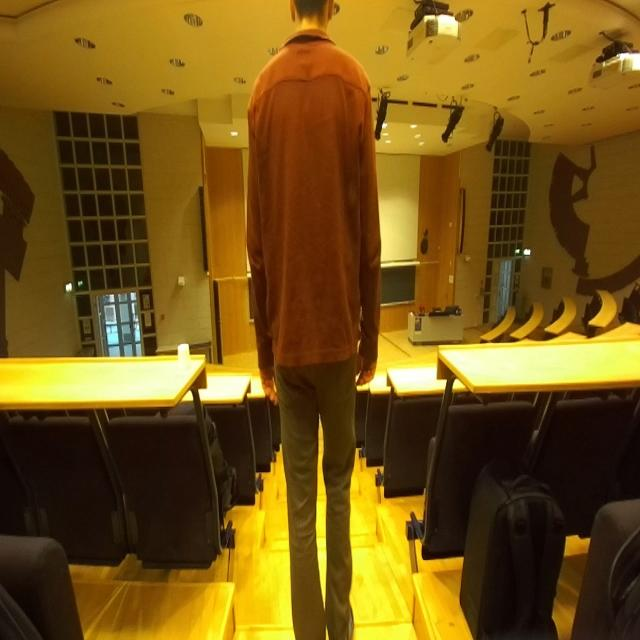person: (246, 0, 382, 639)
